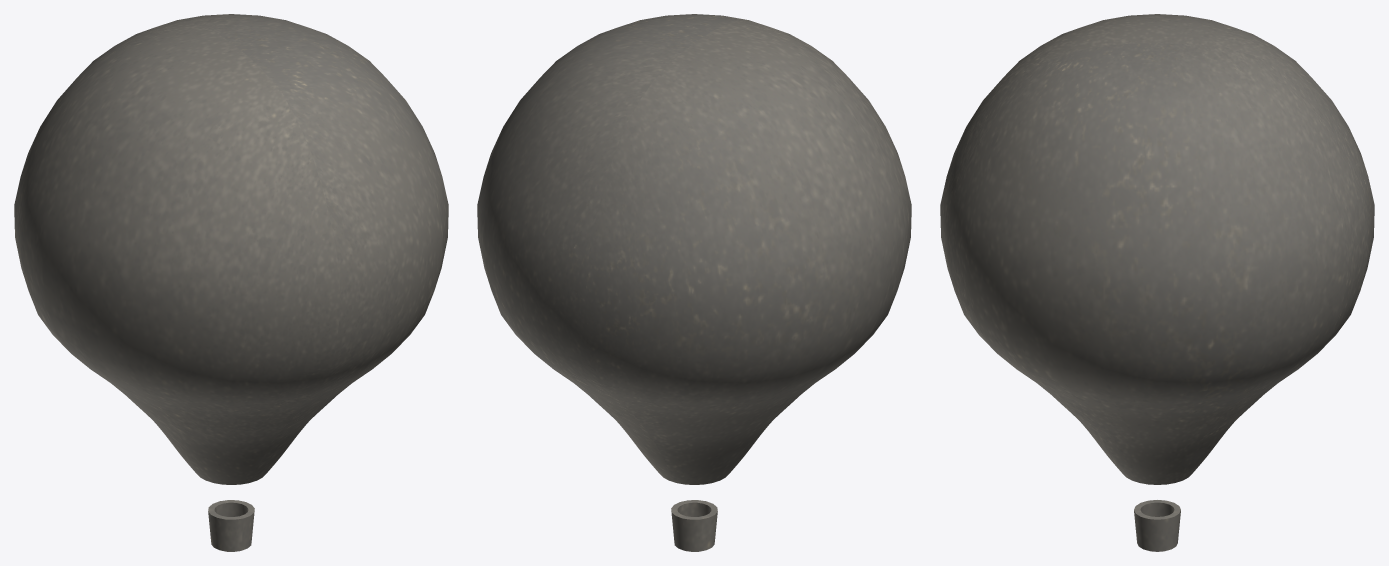
Rendered from hotairballoon.fbx.
3 renders of one model, left to right at view 1: azimuth 30°, elevation 25°; view 2: azimuth 150°, elevation 25°; view 3: azimuth 270°, elevation 25°, orthographic.
Visible parts, largest first — view 1: 0_balloon; view 2: 0_balloon; view 3: 0_balloon.
Part boxes in pixels (x1,y1,x2,y2): 0_balloon: (14,14,448,551); 0_balloon: (477,14,911,551); 0_balloon: (940,14,1374,551).
Size of the model in its own units: 388 by 495 by 388.
